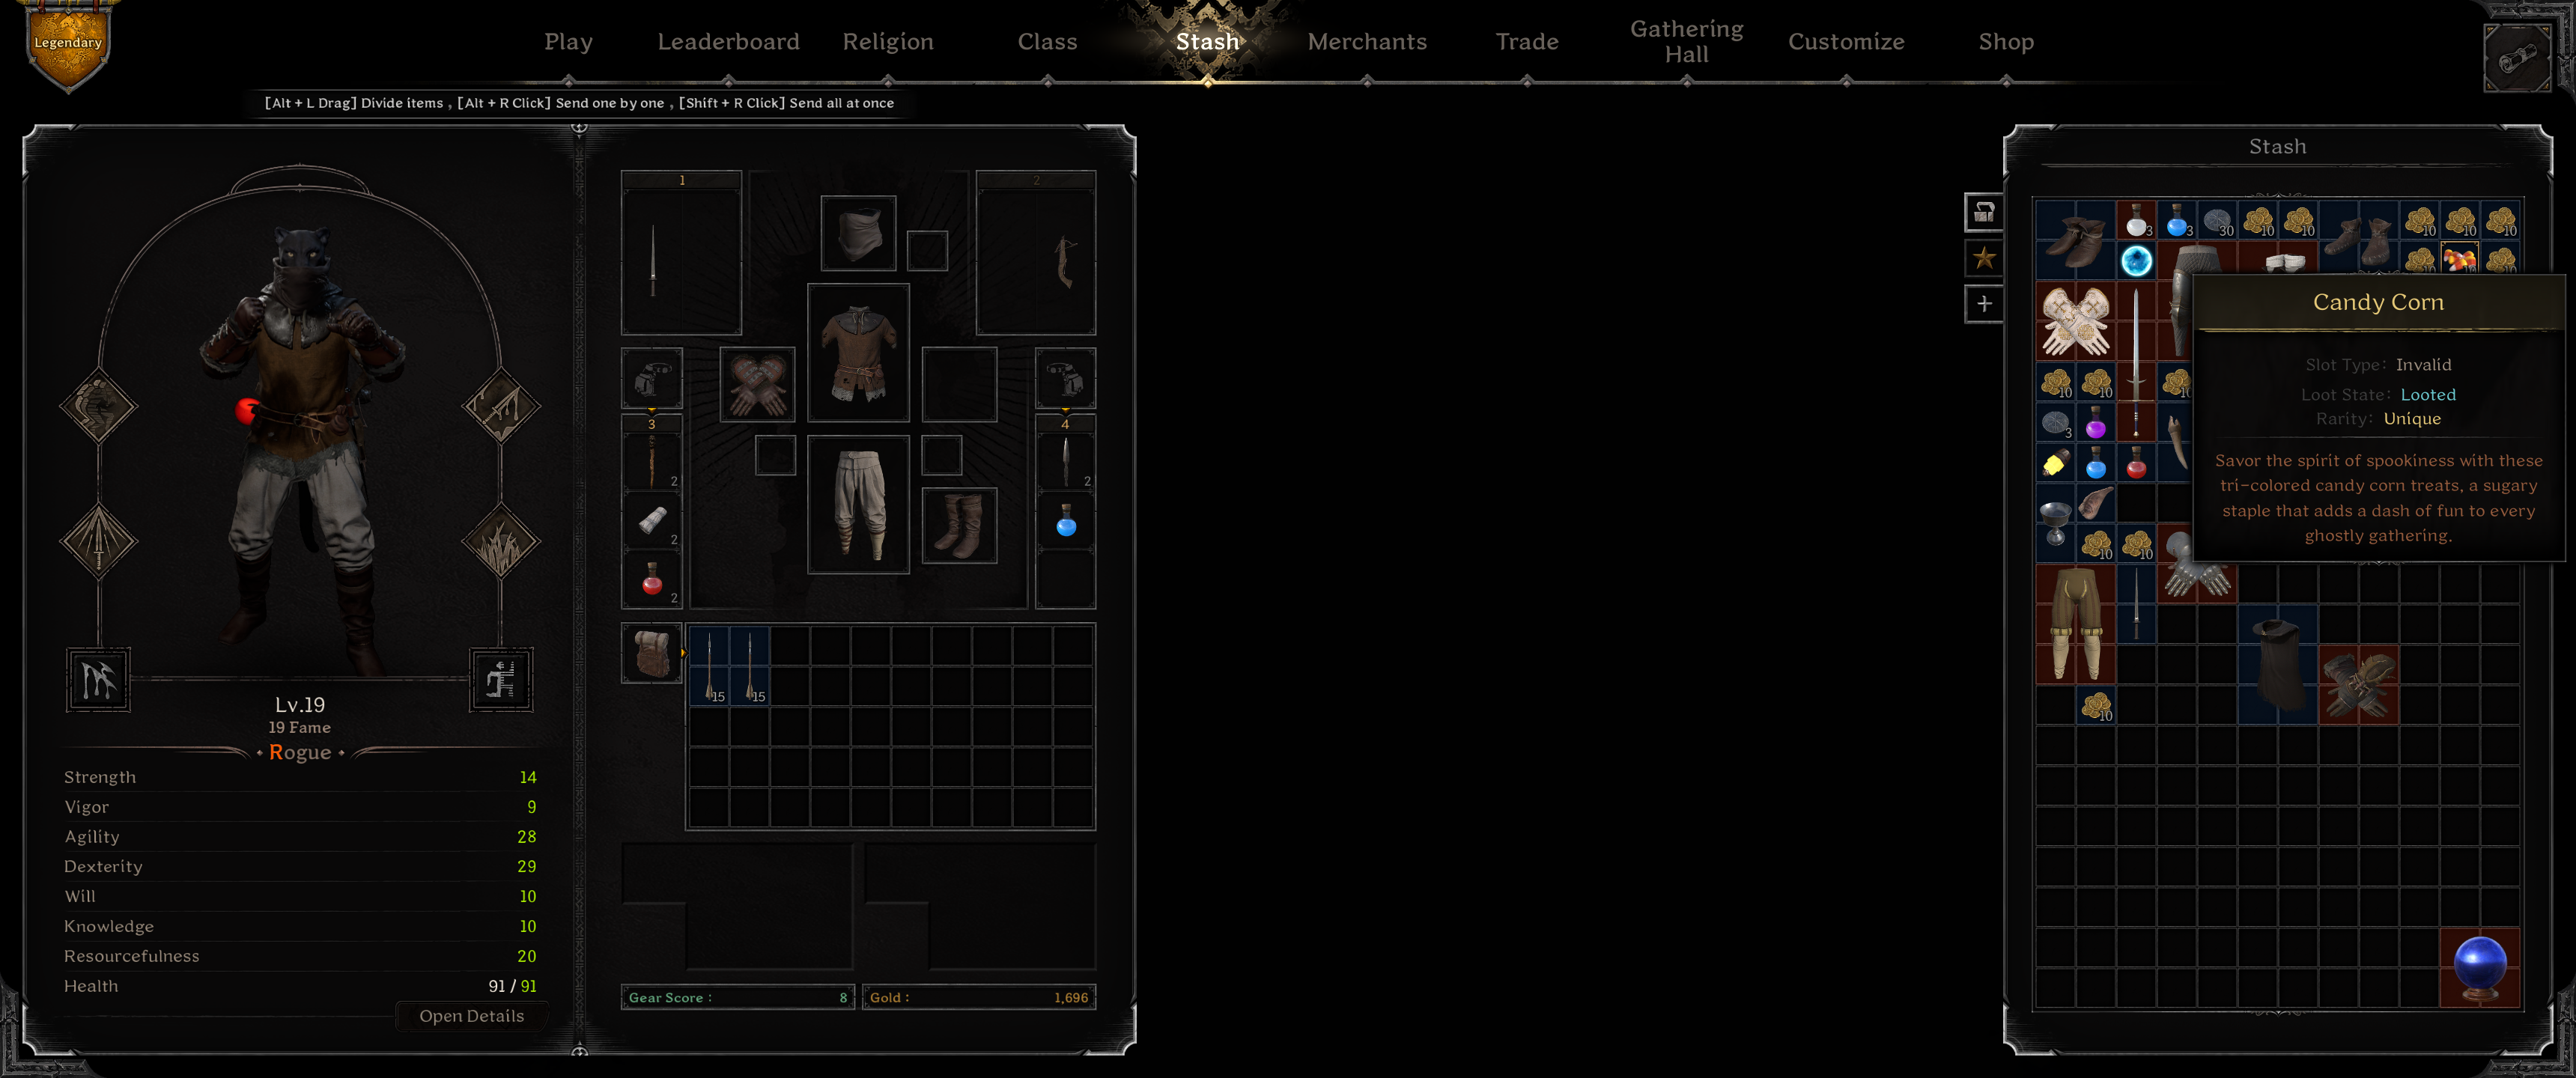Tooltip: (2192, 273, 2568, 564)
